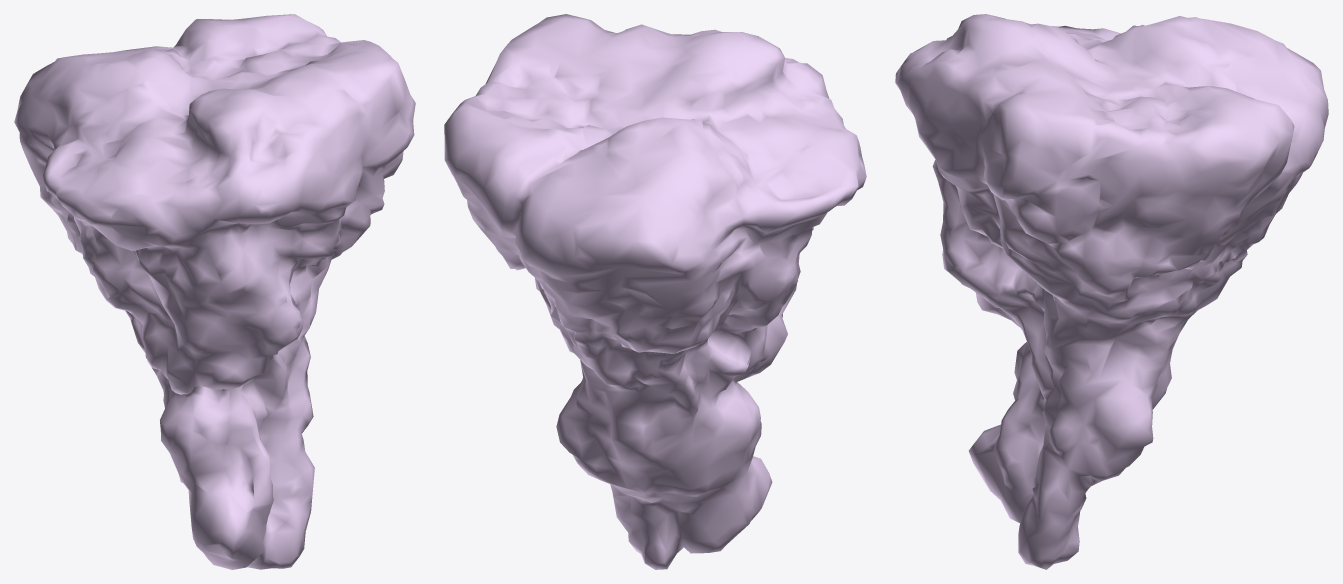
Rendered from lava_wall_04.FBX.
The picture shows the model from 3 angles, left to right: view 1: azimuth 30°, elevation 25°; view 2: azimuth 150°, elevation 25°; view 3: azimuth 270°, elevation 25°; orthographic projection. The views are drawn at different scales.
Visible parts, largest first — view 1: lava_wall_04_LOD0; view 2: lava_wall_04_LOD0; view 3: lava_wall_04_LOD0.
Part boxes in pixels (x1=…): lava_wall_04_LOD0: x1=14, y1=14, x2=415, y2=569; lava_wall_04_LOD0: x1=444, y1=14, x2=866, y2=569; lava_wall_04_LOD0: x1=895, y1=14, x2=1328, y2=569.
Size of what is drawn, in the model's own units: 310 by 434 by 328.
